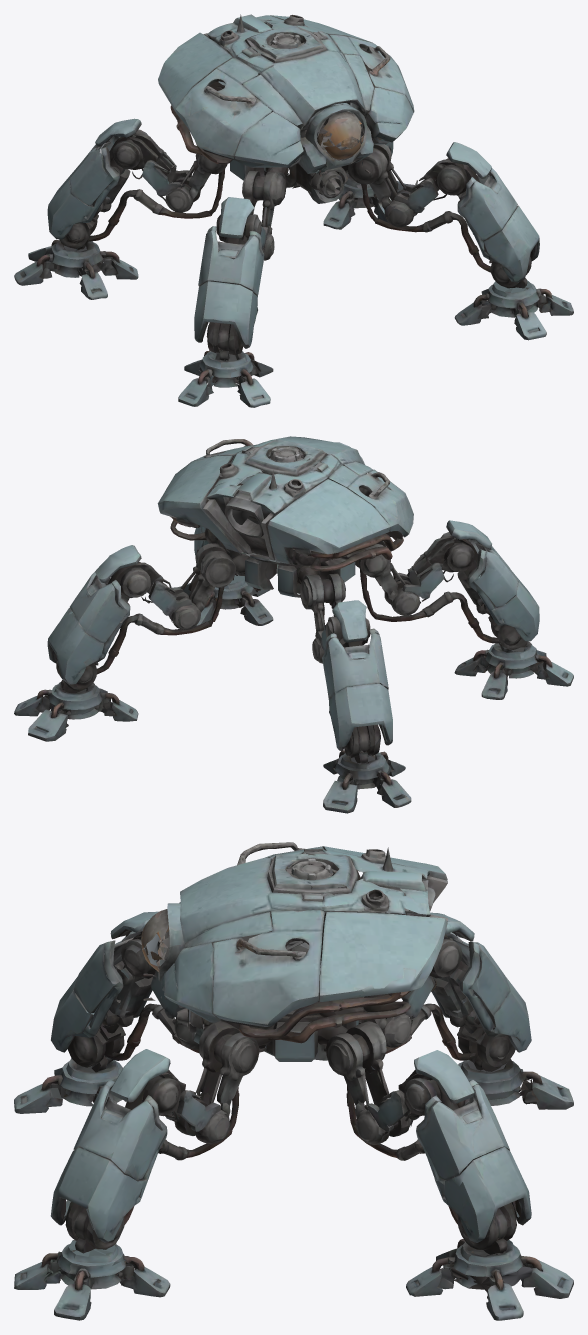
3 renders of one model, top to bottom at view 1: azimuth 30°, elevation 25°; view 2: azimuth 150°, elevation 25°; view 3: azimuth 270°, elevation 25°, orthographic. The views are drawn at different scales.
Parts seen in each view (by area): view 1: part_002_DORSAL_MODULE, part_013_DORSAL_MODULE, part_006_FRONT_SHIN_L, part_003_FRONT_SHIN_R, part_012_DORSAL_MODULE, part_007_REAR_SHIN_L, part_001_FRONT_SHIN_L, part_008_REAR_SHIN_L, part_017_FRONT_THIGH_R, part_011_FRONT_PAW_R, part_005_DORSAL_MODULE, part_021_DORSAL_MODULE (+20 smaller); view 2: part_000_REAR_SHIN_R, part_001_FRONT_SHIN_L, part_002_DORSAL_MODULE, part_008_REAR_SHIN_L, part_021_DORSAL_MODULE, part_006_FRONT_SHIN_L, part_013_DORSAL_MODULE, part_012_DORSAL_MODULE, part_029_DORSAL_MODULE, part_009_REAR_THIGH_L, part_040_REAR_THIGH_R, part_024_DORSAL_MODULE (+27 smaller); view 3: part_000_REAR_SHIN_R, part_003_FRONT_SHIN_R, part_015_DORSAL_MODULE, part_029_DORSAL_MODULE, part_013_DORSAL_MODULE, part_001_FRONT_SHIN_L, part_017_FRONT_THIGH_R, part_006_FRONT_SHIN_L, part_008_REAR_SHIN_L, part_007_REAR_SHIN_L, part_024_DORSAL_MODULE, part_011_FRONT_PAW_R (+29 smaller).
Boxes of the visible parts, bbox=[...] form: part_002_DORSAL_MODULE: bbox=[158, 32, 303, 167]; part_013_DORSAL_MODULE: bbox=[245, 25, 365, 132]; part_006_FRONT_SHIN_L: bbox=[194, 226, 264, 348]; part_003_FRONT_SHIN_R: bbox=[457, 168, 539, 292]; part_012_DORSAL_MODULE: bbox=[207, 14, 303, 167]; part_007_REAR_SHIN_L: bbox=[59, 129, 225, 248]; part_001_FRONT_SHIN_L: bbox=[199, 171, 274, 387]; part_008_REAR_SHIN_L: bbox=[47, 136, 120, 239]; part_017_FRONT_THIGH_R: bbox=[341, 144, 451, 232]; part_011_FRONT_PAW_R: bbox=[454, 280, 551, 340]; part_005_DORSAL_MODULE: bbox=[270, 15, 362, 182]; part_021_DORSAL_MODULE: bbox=[158, 35, 232, 113]; part_000_REAR_SHIN_R: bbox=[47, 561, 224, 693]; part_001_FRONT_SHIN_L: bbox=[355, 532, 538, 678]; part_002_DORSAL_MODULE: bbox=[257, 461, 413, 571]; part_008_REAR_SHIN_L: bbox=[322, 628, 392, 751]; part_021_DORSAL_MODULE: bbox=[278, 479, 390, 549]; part_006_FRONT_SHIN_L: bbox=[467, 538, 539, 641]; part_013_DORSAL_MODULE: bbox=[237, 436, 366, 476]; part_012_DORSAL_MODULE: bbox=[232, 463, 405, 513]; part_029_DORSAL_MODULE: bbox=[157, 455, 233, 516]; part_009_REAR_THIGH_L: bbox=[297, 565, 364, 663]; part_040_REAR_THIGH_R: bbox=[189, 551, 236, 612]; part_024_DORSAL_MODULE: bbox=[203, 444, 262, 519]; part_000_REAR_SHIN_R: bbox=[346, 1069, 531, 1254]; part_003_FRONT_SHIN_R: bbox=[50, 1080, 167, 1256]; part_015_DORSAL_MODULE: bbox=[212, 910, 324, 1026]; part_029_DORSAL_MODULE: bbox=[319, 911, 445, 1001]; part_013_DORSAL_MODULE: bbox=[180, 852, 357, 943]; part_001_FRONT_SHIN_L: bbox=[41, 931, 199, 1106]; part_017_FRONT_THIGH_R: bbox=[160, 1021, 274, 1160]; part_006_FRONT_SHIN_L: bbox=[51, 931, 152, 1052]; part_008_REAR_SHIN_L: bbox=[431, 932, 531, 1052]; part_007_REAR_SHIN_L: bbox=[386, 931, 485, 1063]; part_024_DORSAL_MODULE: bbox=[184, 878, 448, 963]; part_011_FRONT_PAW_R: bbox=[14, 1240, 128, 1290].
Size of the model in its own units: 0.9987 by 0.6264 by 0.94.
1 material, 1 textured.
